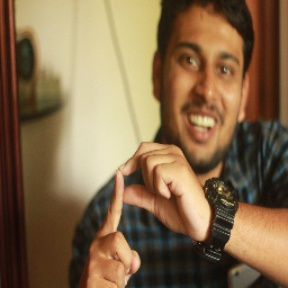P: (82, 141, 201, 288)
